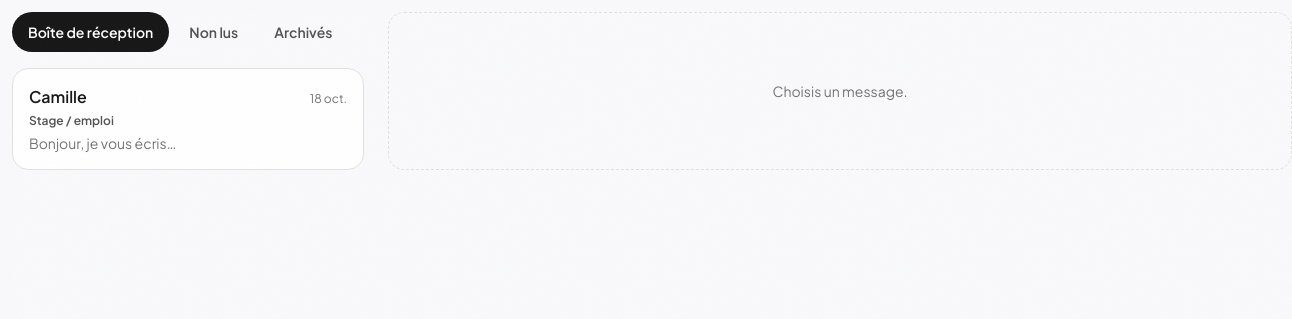
Test case: archive and the archived tab
Click the text "Camille" at (58, 96), box [29, 86, 87, 107]
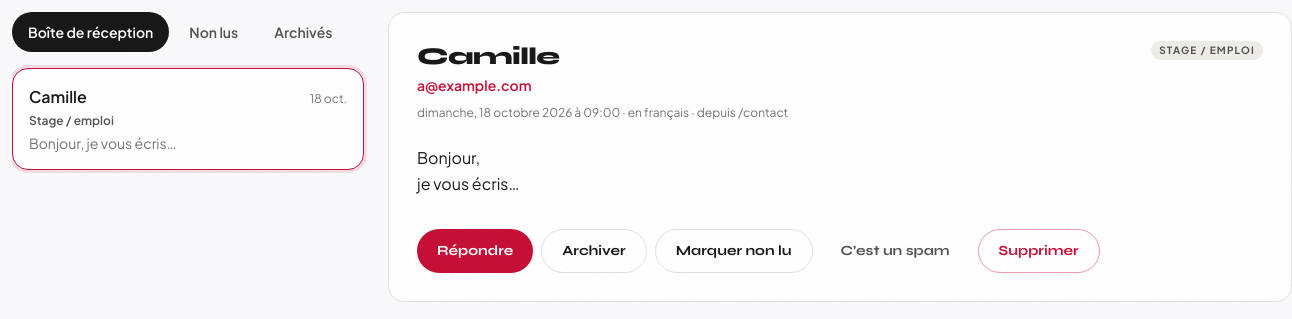
Click the button "Archiver" at (594, 251), box [541, 229, 647, 273]
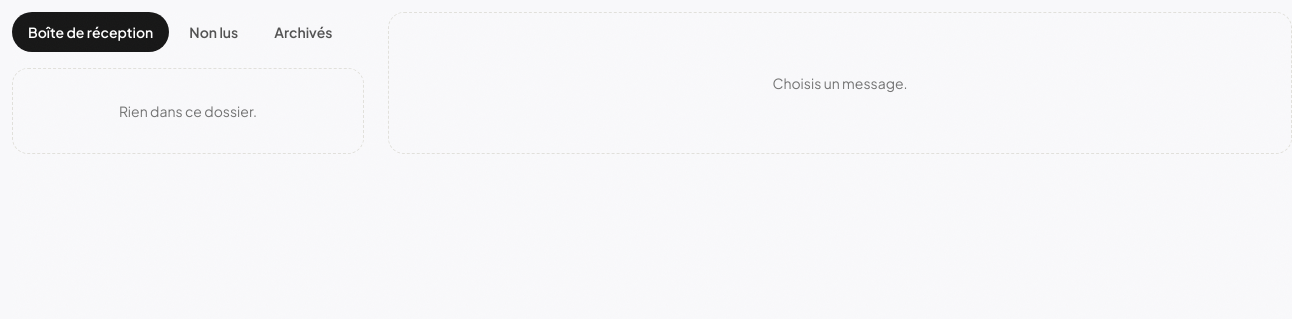
Click the tab "Archivés" at (303, 32), box [258, 12, 348, 52]
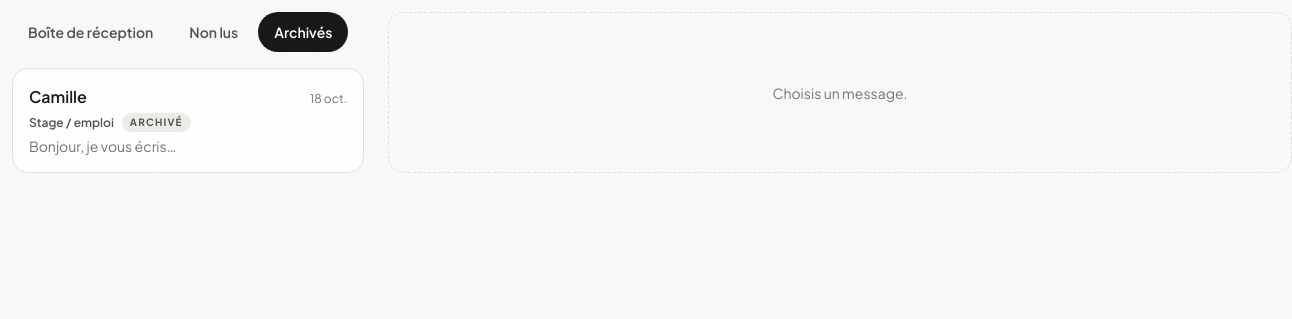
Expected: the text "Camille" is shown, [29, 86, 87, 107]
